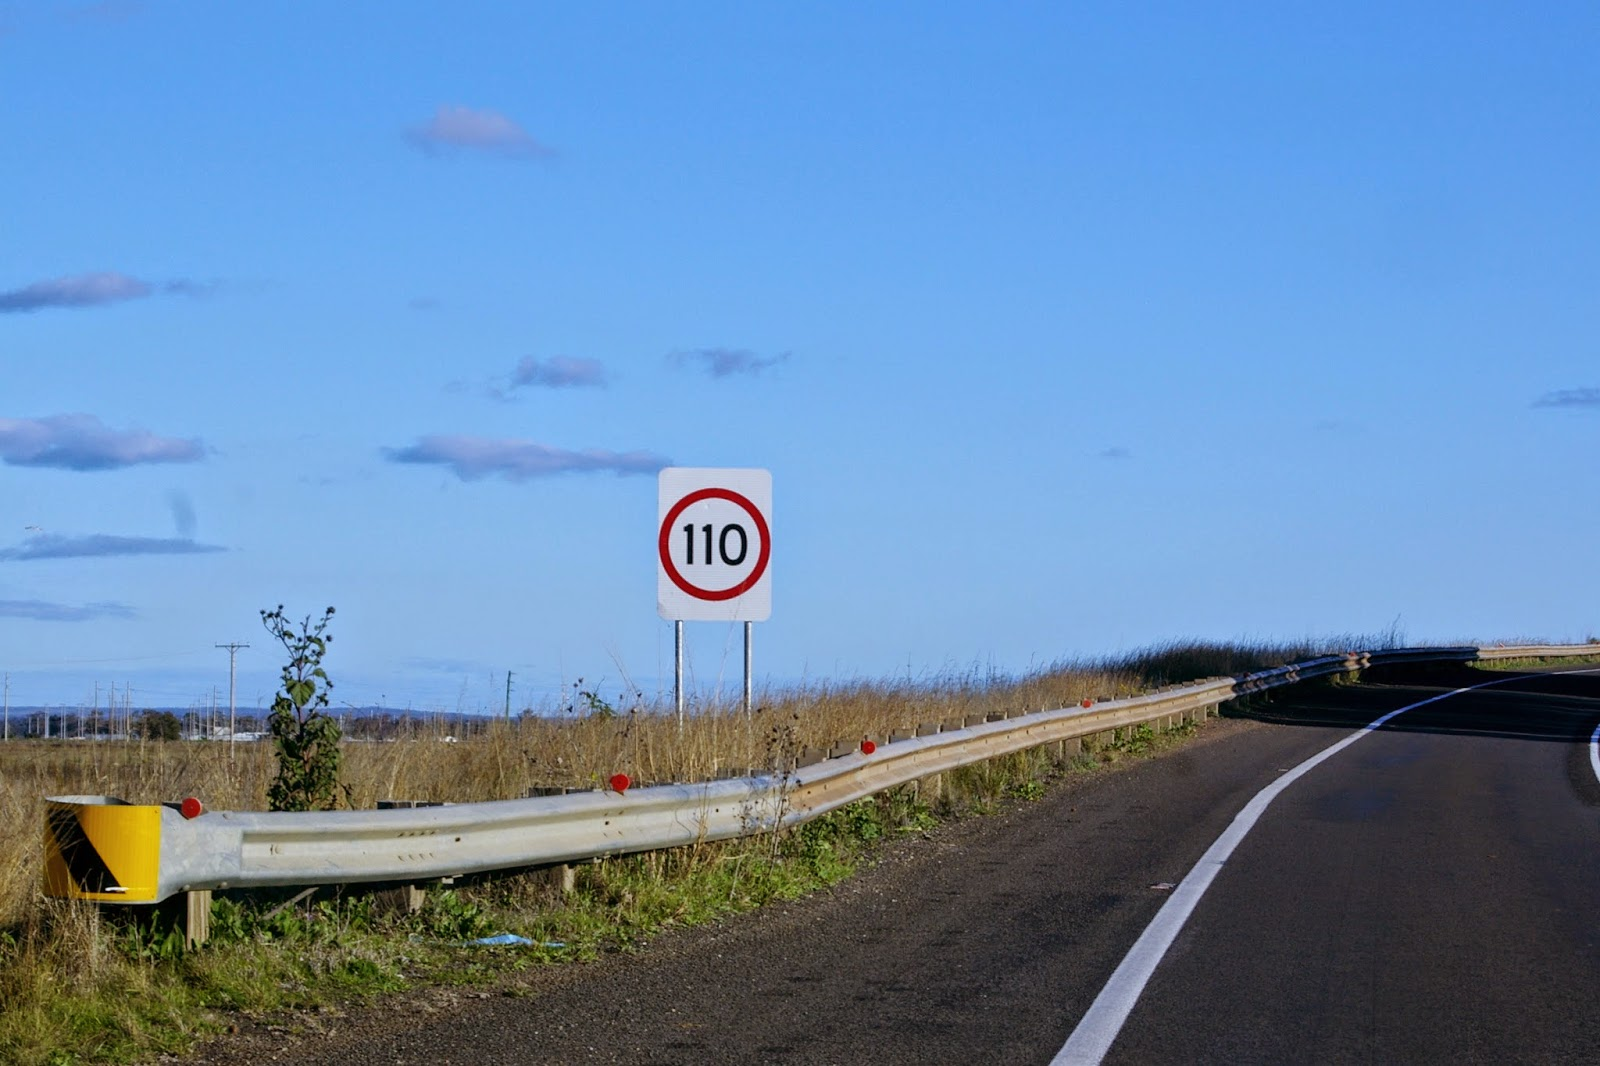Speed_limit_110km: (659, 487, 771, 601)
